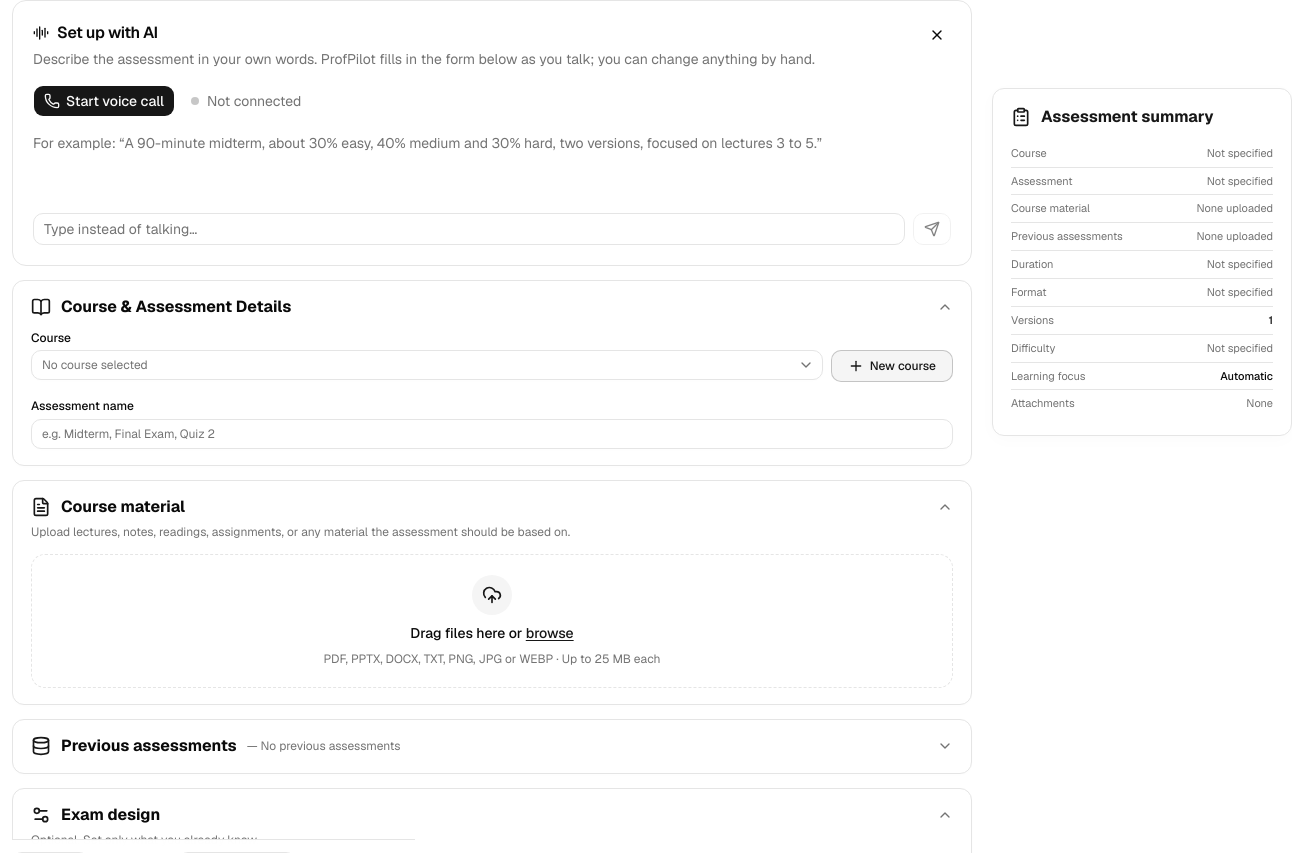
it: each tool works on the setup the previous one returned, even within one reply
The width and height of the screenshot is (1292, 853).
Click the button "Start voice call" at x=104, y=101, box [33,85,175,117]
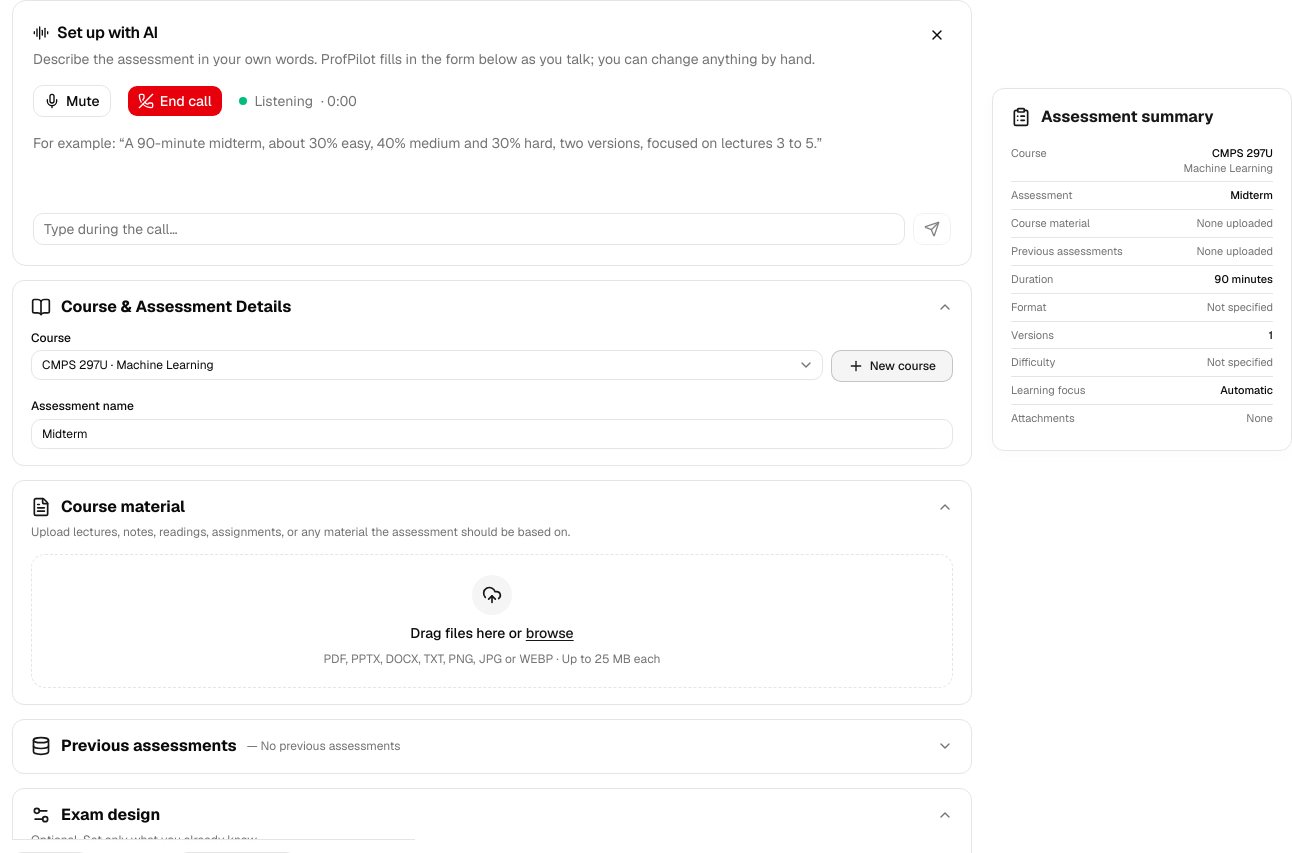
Check: the button "End call" is shown, box [127,85,223,117]
